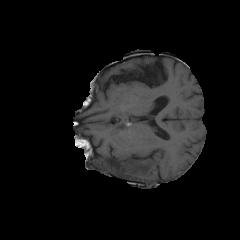glioma: (80, 138, 155, 183)
